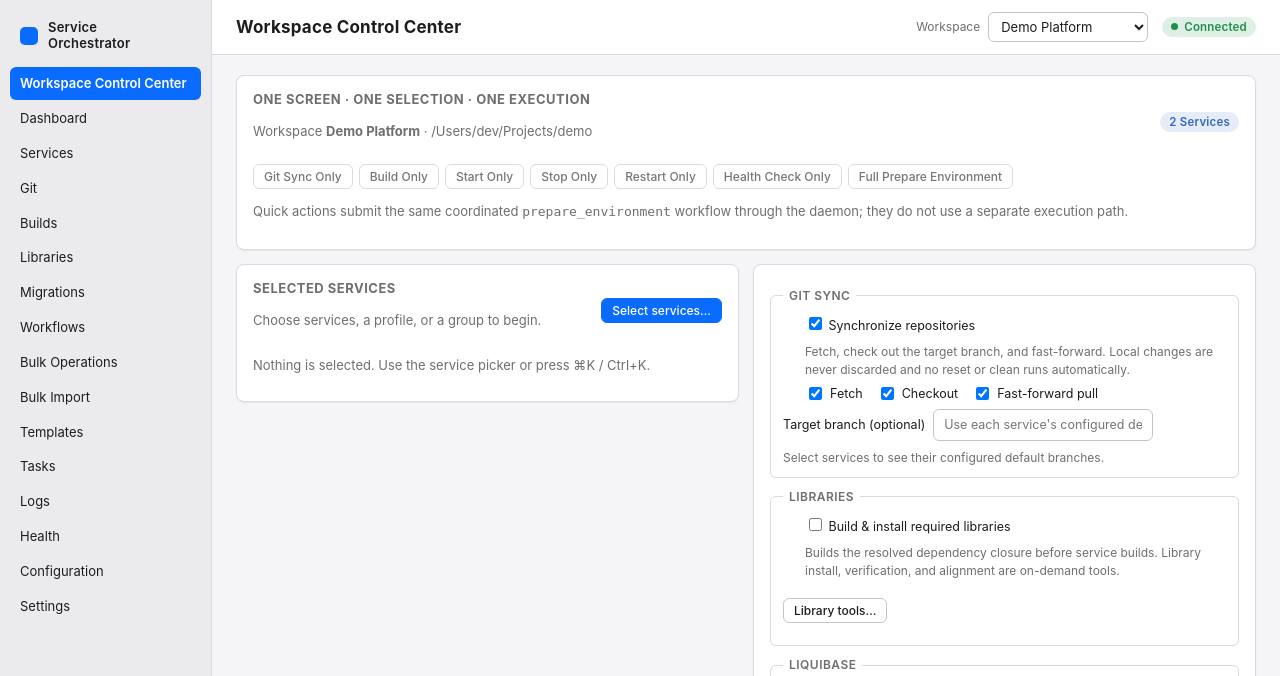
Test: profile selection › lists profiles with their services, groups, and resolved services
The width and height of the screenshot is (1280, 676).
Click the button "Workflows": (106, 328) [10,311,201,344]
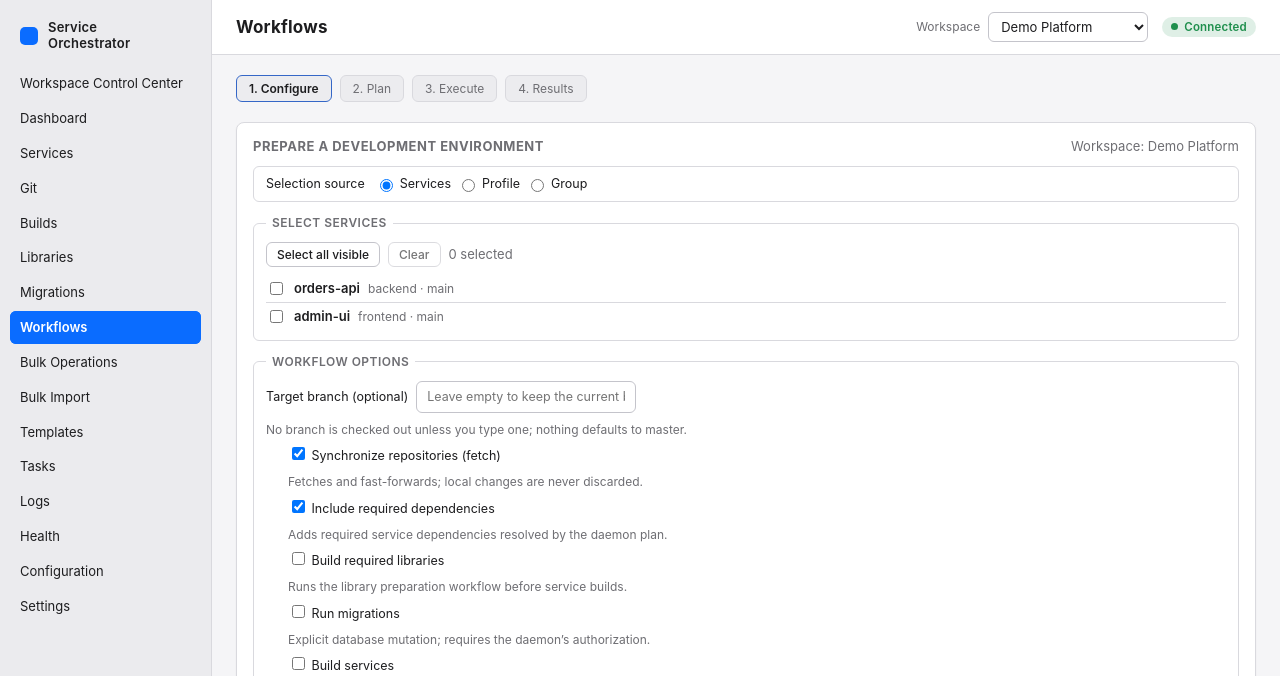
Result: the heading "Prepare a development environment" is shown at [253,137,544,156]
Click the radio button with aria-label "Select by profile": (468, 186) [462,179,475,192]
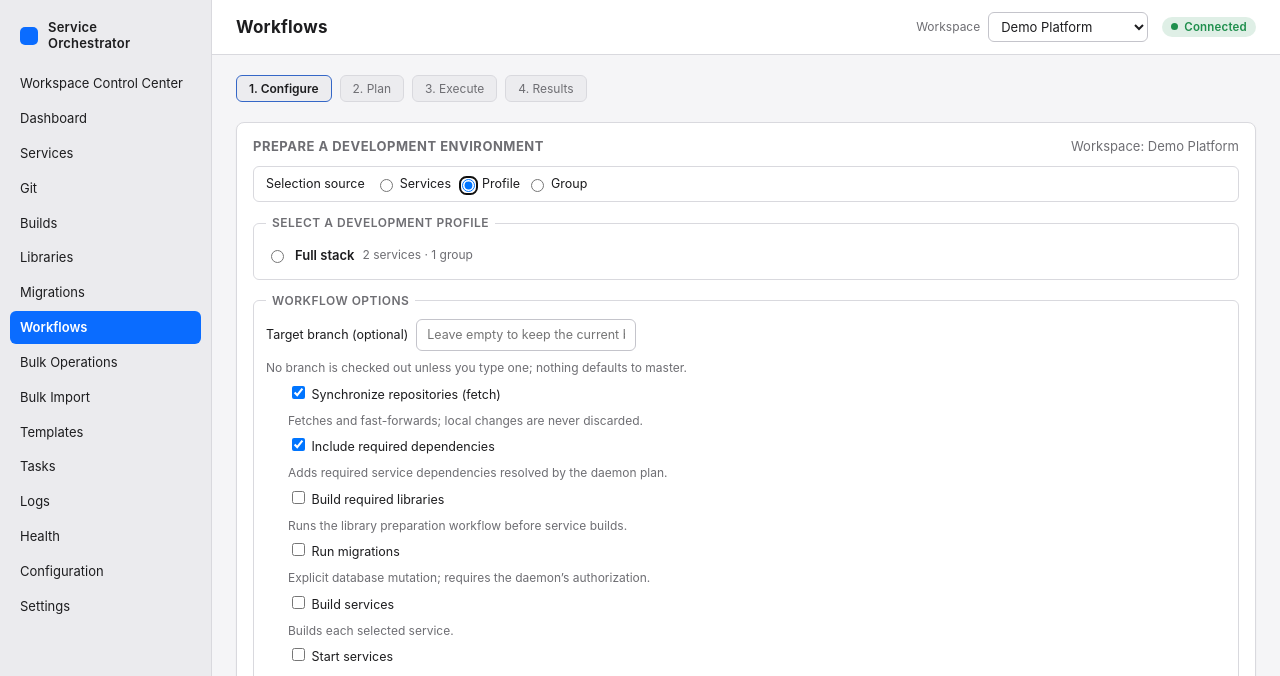
Result: the radio button with aria-label "Select profile full-stack" is shown
Click the radio button with aria-label "Select profile full-stack": (278, 257) [271,250,284,263]
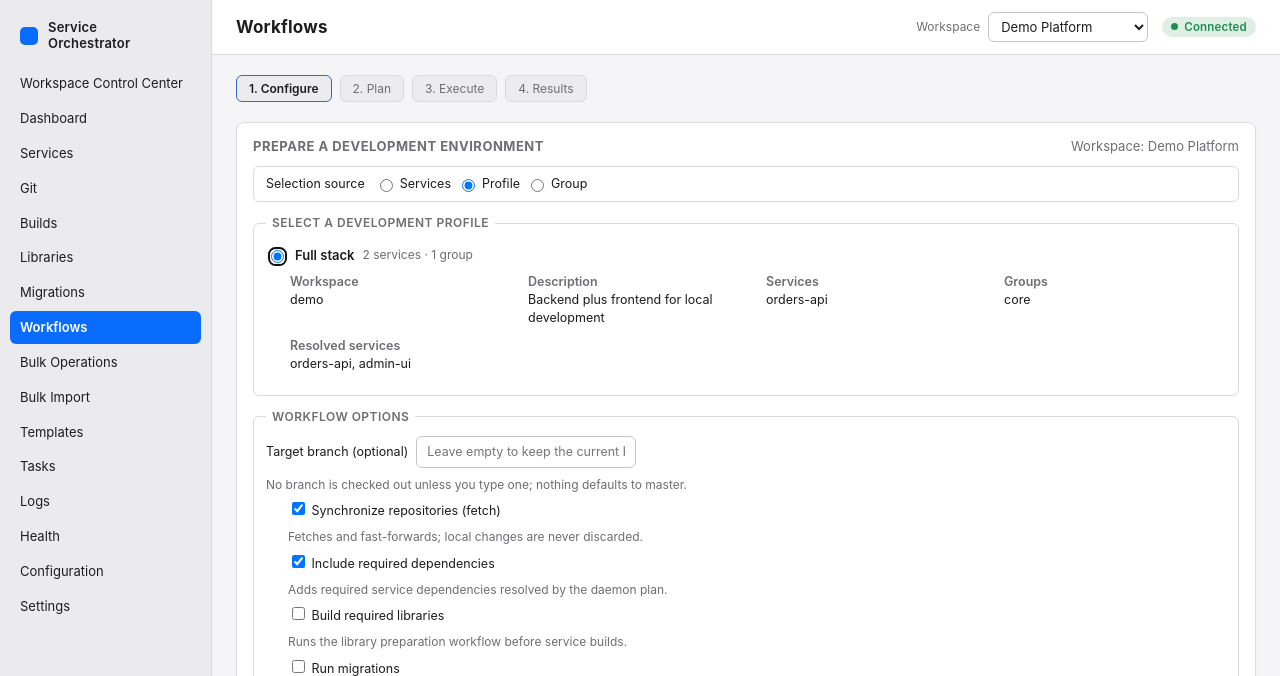
Result: the text "Full stack" is shown at [295,246,354,265]
Result: the text "orders-api" is shown at [766,292,828,307]
Result: the text "core" is shown at [1004,292,1030,307]
